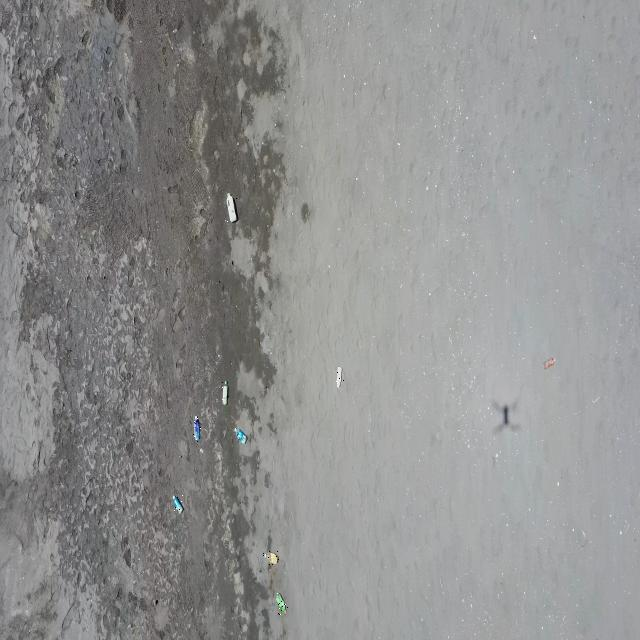plastic-bottle: (225, 191, 239, 225), (171, 493, 184, 514), (234, 426, 248, 445), (276, 593, 288, 615), (263, 552, 279, 568), (193, 414, 201, 442), (222, 380, 230, 406), (336, 365, 344, 389)
